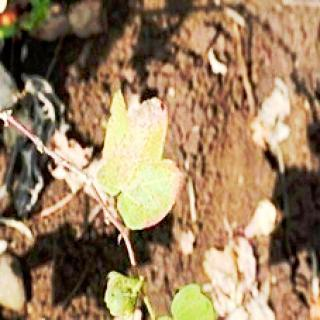leaf spot: (102, 97, 190, 219)
